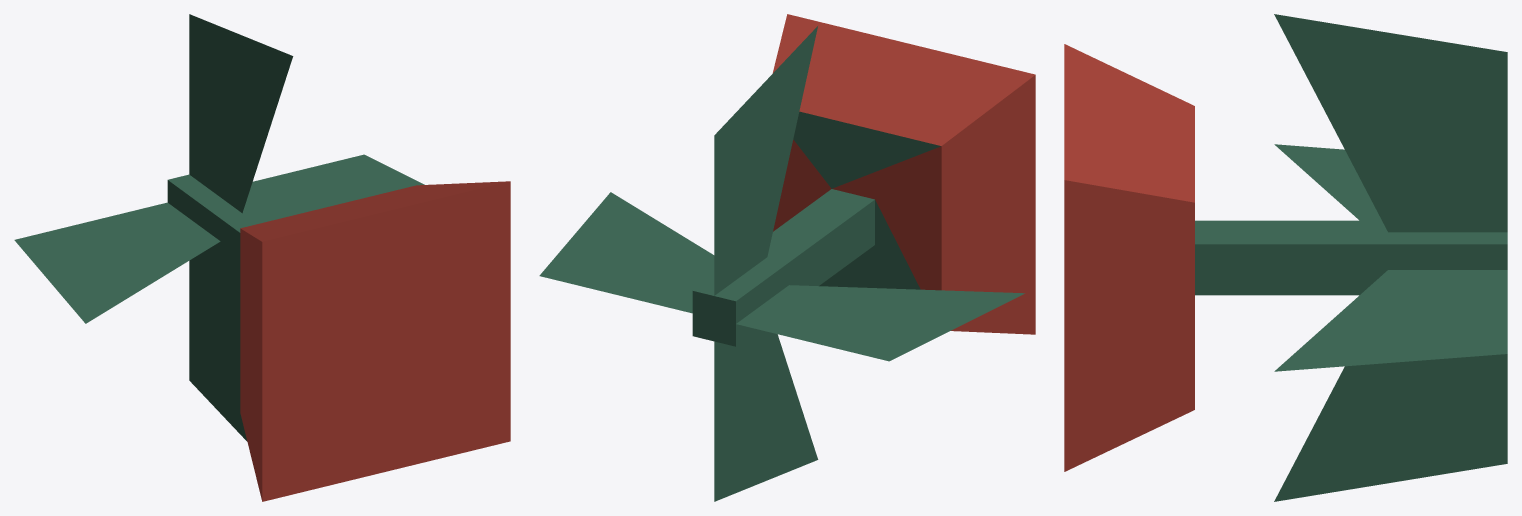
Rendered from flower.obj.
3 views of the same model, side by side, from view 1: azimuth 30°, elevation 25°; view 2: azimuth 150°, elevation 25°; view 3: azimuth 270°, elevation 25° (orthographic). The views are drawn at different scales.
Visible parts, largest first — view 1: Mesh3_Flower_Red_Model, Mesh4_Flower_Red_Model, Mesh2_Flower_Red_Model, Mesh1_Flower_Red_Model, Mesh5_Flower_Red_Model; view 2: Mesh3_Flower_Red_Model, Mesh4_Flower_Red_Model, Mesh2_Flower_Red_Model, Mesh1_Flower_Red_Model, Mesh5_Flower_Red_Model; view 3: Mesh3_Flower_Red_Model, Mesh4_Flower_Red_Model, Mesh1_Flower_Red_Model, Mesh5_Flower_Red_Model, Mesh2_Flower_Red_Model.
Boxes of the visible parts, x1,y1,x2,y2 form: Mesh3_Flower_Red_Model: (167, 174, 510, 501); Mesh4_Flower_Red_Model: (189, 14, 293, 213); Mesh2_Flower_Red_Model: (14, 202, 220, 323); Mesh1_Flower_Red_Model: (189, 252, 247, 441); Mesh5_Flower_Red_Model: (248, 154, 424, 218); Mesh3_Flower_Red_Model: (692, 14, 1035, 346); Mesh4_Flower_Red_Model: (714, 26, 817, 295); Mesh2_Flower_Red_Model: (736, 285, 1024, 361); Mesh1_Flower_Red_Model: (714, 329, 818, 501); Mesh5_Flower_Red_Model: (539, 192, 714, 313); Mesh3_Flower_Red_Model: (1064, 44, 1507, 471); Mesh4_Flower_Red_Model: (1274, 14, 1507, 232); Mesh1_Flower_Red_Model: (1274, 354, 1507, 501); Mesh5_Flower_Red_Model: (1274, 270, 1507, 371); Mesh2_Flower_Red_Model: (1274, 144, 1381, 220).
Bounding box in the file's own units: 1.76 × 1.76 × 1.45.
